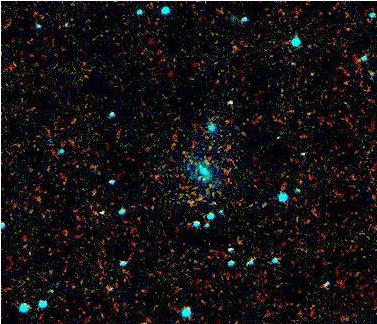star: (175, 189, 205, 219)
